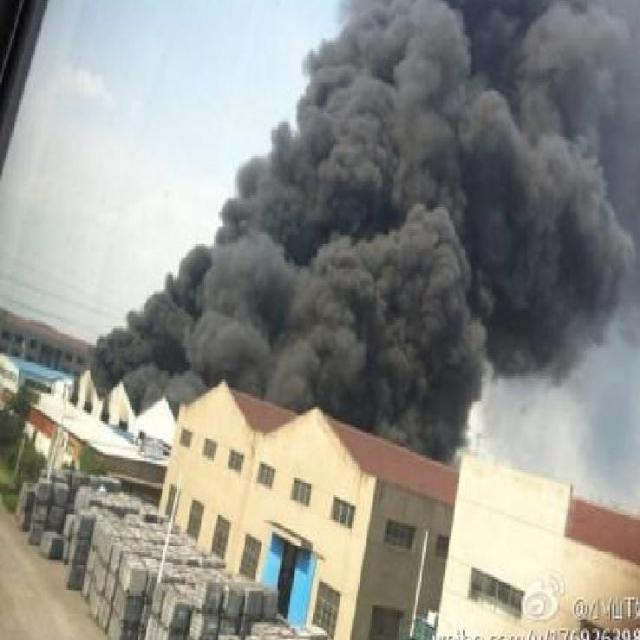Smoke: (78, 0, 639, 455)
